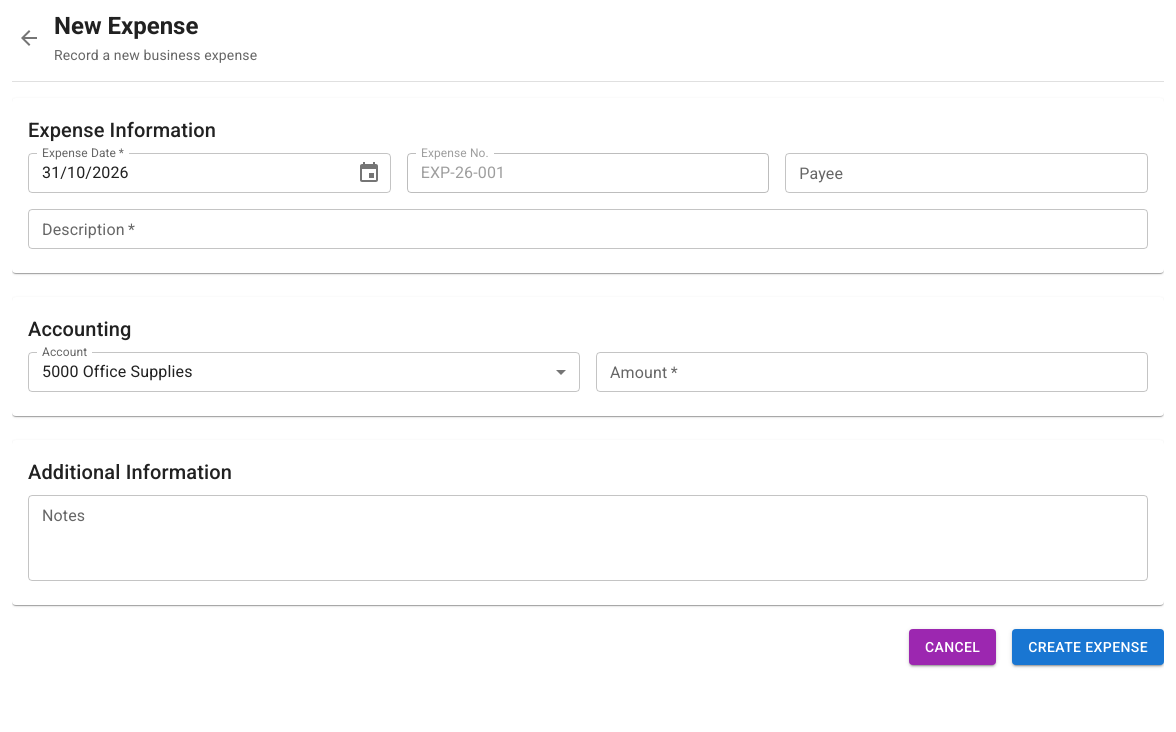
Test: ExpenseFormPage - Create mode › keeps other active postable operating expense accounts selectable
This screenshot has width=1176, height=732.
Step 1. Click the dropdown named "account" → {"x": 117, "y": 372}, box x1=42 y1=362 x2=193 y2=381
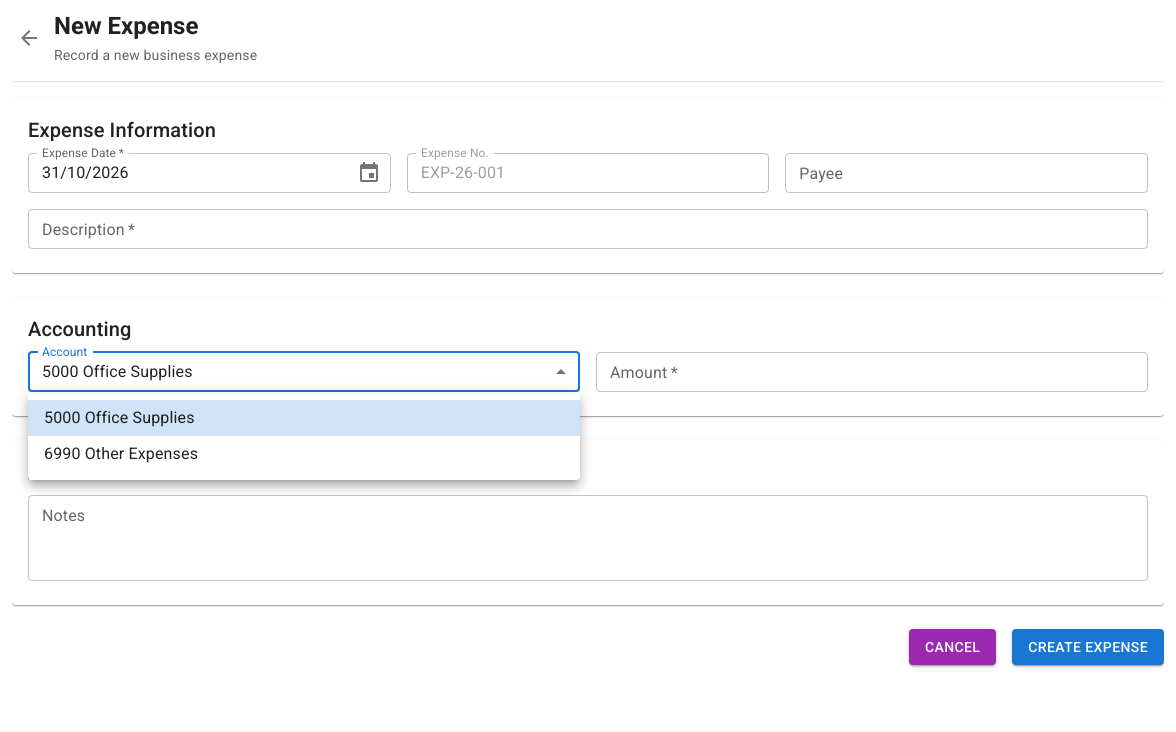
Expected: the option "6990 Other Expenses" is shown, x1=44 y1=444 x2=198 y2=463
Expected: the option "5000 Office Supplies" is shown, x1=28 y1=400 x2=580 y2=436
